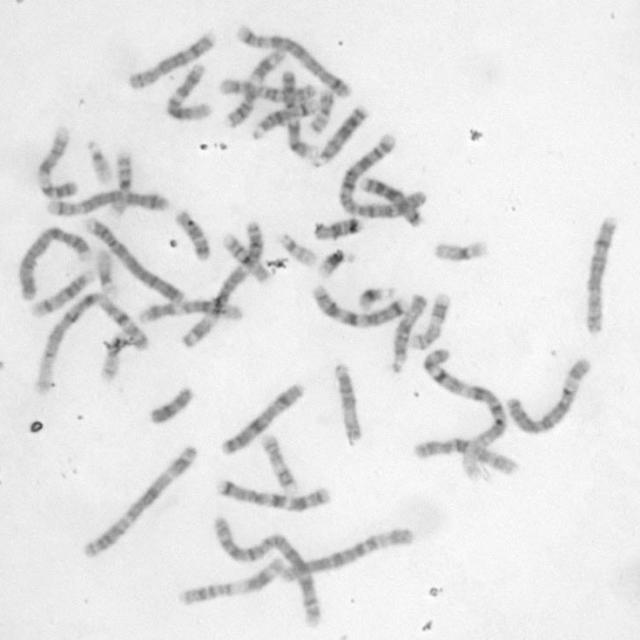A1: (28, 288, 155, 398), (419, 344, 514, 482)
A2: (209, 514, 323, 630), (335, 131, 428, 226)
A3: (78, 441, 198, 560), (180, 216, 268, 351)
B4: (81, 213, 185, 304), (15, 221, 93, 303)
B5: (232, 21, 354, 99), (42, 187, 172, 219)
C10: (408, 435, 521, 477), (215, 74, 320, 105)
C11: (174, 554, 287, 608), (221, 45, 286, 128)
C12: (134, 296, 246, 326), (163, 60, 213, 122)
C6: (275, 523, 417, 585), (502, 354, 595, 436)
C7: (308, 279, 408, 330), (213, 475, 333, 513)
C8: (122, 26, 218, 92), (580, 212, 619, 336)
C9: (33, 122, 78, 201), (279, 68, 316, 160)
D13: (309, 100, 368, 168), (359, 175, 422, 228)
D14: (27, 264, 98, 318), (250, 101, 318, 142)
D15: (386, 290, 428, 374), (330, 359, 363, 445)
E16: (218, 228, 270, 284), (106, 147, 134, 217)
E17: (408, 289, 452, 351), (258, 432, 298, 494)
E18: (172, 206, 212, 261), (310, 214, 362, 242)
F19: (430, 236, 490, 264), (92, 245, 120, 298)
F20: (306, 86, 337, 136), (100, 331, 130, 381)
G21: (354, 281, 397, 312), (314, 244, 351, 280)
G22: (275, 230, 320, 269), (83, 137, 115, 186)
X: (217, 379, 306, 457)
Y: (145, 383, 194, 426)
